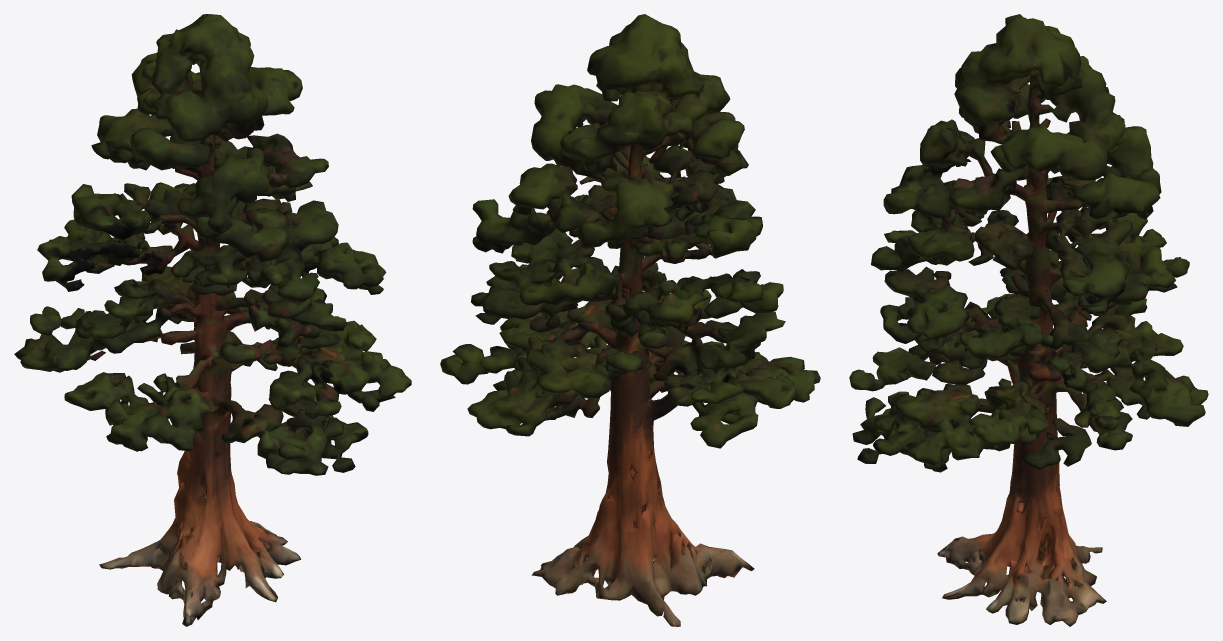
The model's file is AI_DoubleTrunkRedwood.fbx.
3 renders of one model, left to right at view 1: azimuth 30°, elevation 25°; view 2: azimuth 150°, elevation 25°; view 3: azimuth 270°, elevation 25°, orthographic.
Visible parts, largest first — view 1: Mesh_0; view 2: Mesh_0; view 3: Mesh_0.
Boxes of the visible parts, box(x1,y1,x2,y2) form: Mesh_0: box(14, 14, 411, 626); Mesh_0: box(440, 14, 820, 626); Mesh_0: box(849, 14, 1208, 626).
Bounding box in the file's own units: 115 × 202 × 115.
Materials: 1 (1 with a texture image).
